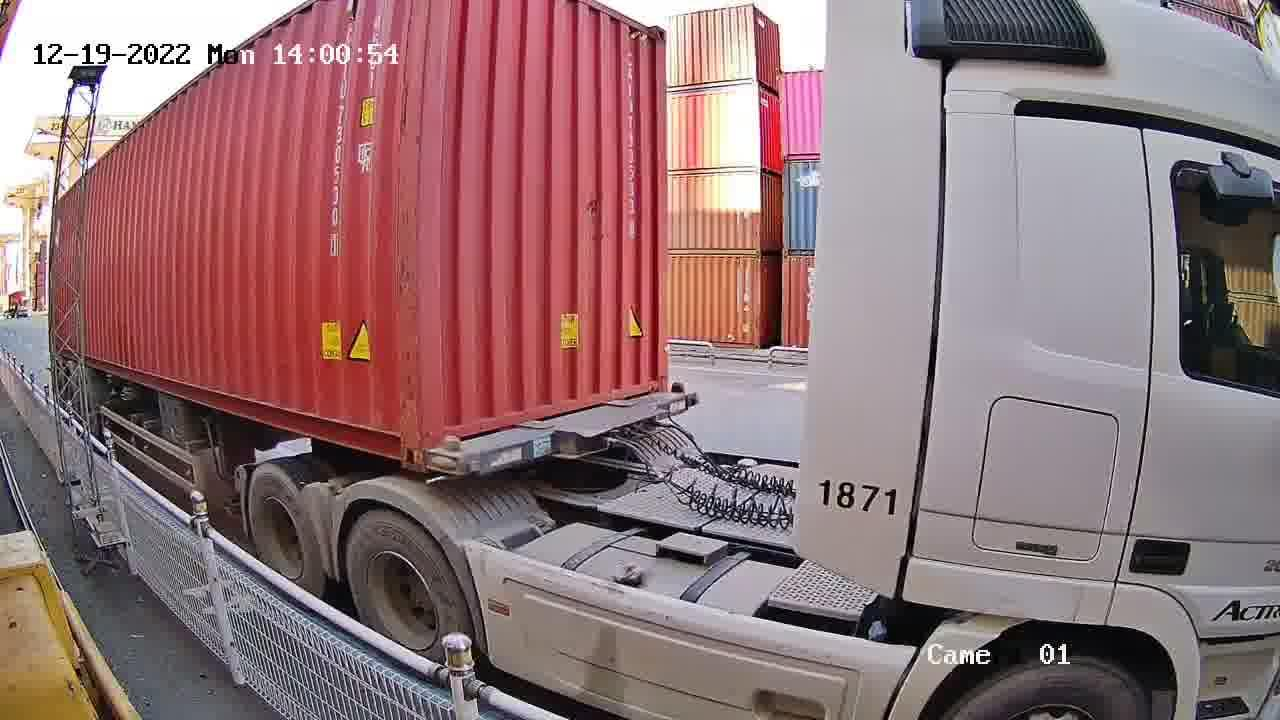Chassis: (425, 392, 693, 475)
Cone: (431, 438, 462, 475), (666, 380, 690, 405)
Hole_R: (373, 410, 423, 466)
Tire: (346, 513, 464, 662), (249, 463, 320, 595)
